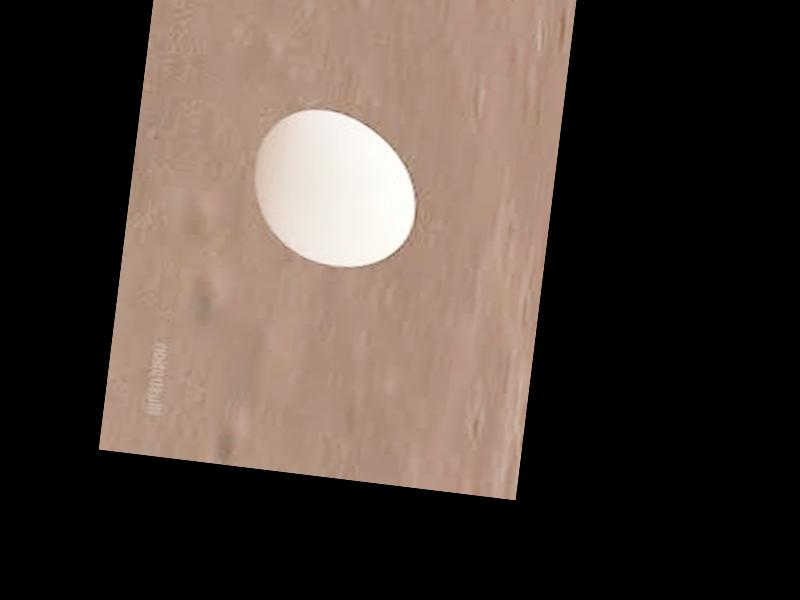Eggs: (245, 101, 425, 275)
